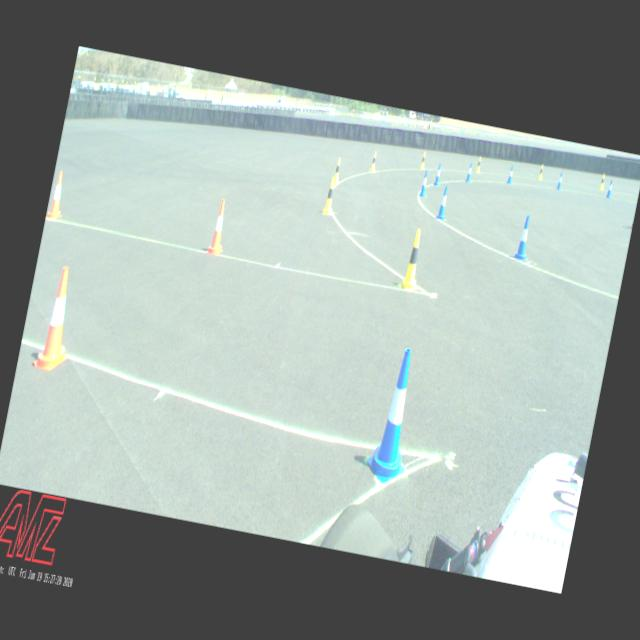blue_cone: (363, 344, 427, 489), (514, 215, 534, 261), (436, 185, 450, 220), (420, 170, 430, 198), (433, 163, 443, 187), (465, 162, 474, 182), (506, 164, 514, 184), (606, 179, 614, 199), (556, 172, 564, 190)
orange_cone: (31, 264, 85, 376), (205, 198, 232, 258), (46, 170, 70, 222)
yellow_cone: (400, 228, 428, 290), (322, 178, 338, 215), (333, 158, 342, 184), (369, 150, 378, 172), (598, 173, 606, 190), (420, 152, 427, 170), (538, 164, 545, 180), (476, 156, 482, 173)
